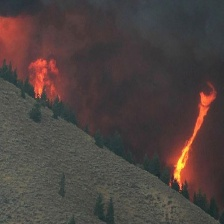fire: (165, 90, 217, 186), (28, 58, 65, 103)
smoke: (55, 3, 224, 100)
